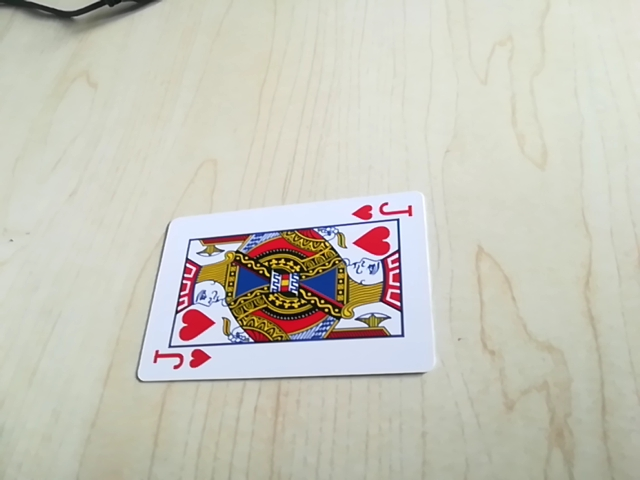hx j: (147, 347, 216, 378), (349, 197, 416, 225)
